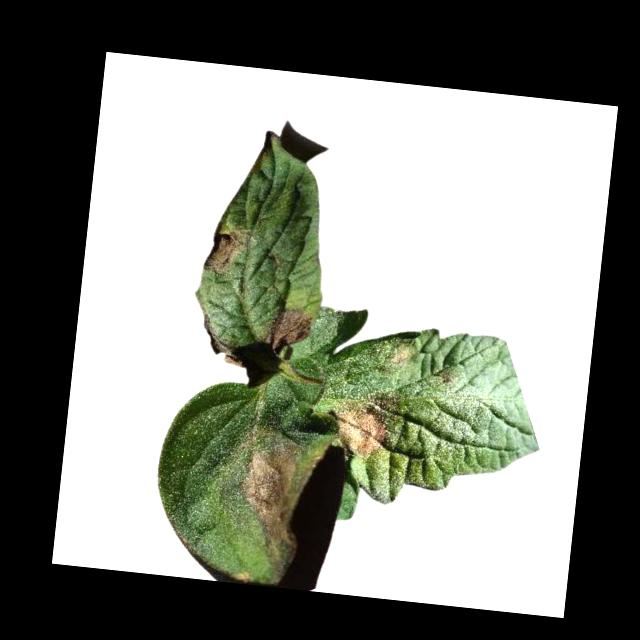Late_blight: (233, 435, 301, 545), (328, 394, 391, 460), (203, 222, 251, 277), (198, 313, 243, 367), (263, 306, 311, 356), (389, 345, 414, 369)
